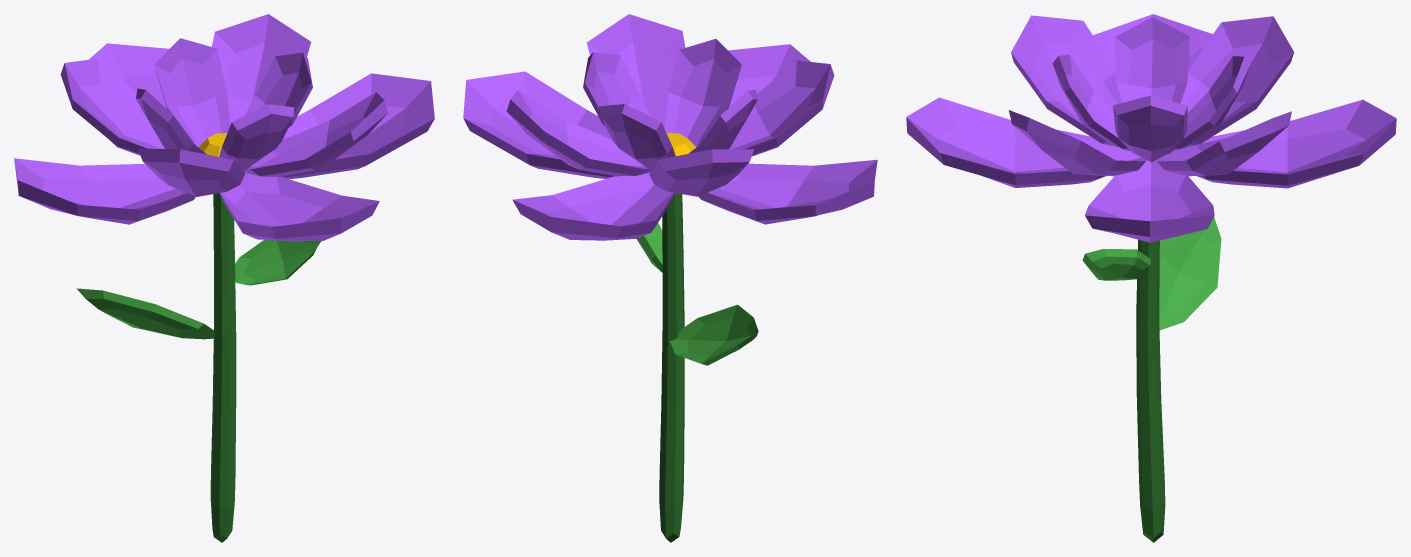
Rendered from Purple_Flower.fbx.
3 renders of one model, left to right at view 1: azimuth 30°, elevation 25°; view 2: azimuth 150°, elevation 25°; view 3: azimuth 270°, elevation 25°, orthographic. The views are drawn at different scales.
Parts seen in each view (by area): view 1: pCube21.012, pCube23.002, pCube22.012, pCube21.013, pCube22.017, pCube21.014, pCube22.015, pCube21.015, pCube22.014, pCube24.002, pCube22.016, pCube25.002 (+3 smaller); view 2: pCube21.012, pCube23.002, pCube22.013, pCube21.013, pCube22.016, pCube22.014, pCube21.015, pCube22.015, pCube21.014, pCube24.002, pCube22.017, pCube21.017 (+3 smaller); view 3: pCube22.013, pCube22.012, pCube21.013, pCube23.002, pCube21.014, pCube22.014, pCube21.016, pCube24.002, pCube21.017, pCube21.015, pCube22.015, pCube22.017 (+3 smaller).
Boxes of the visible parts, box(x1,y1,x2,y2) form: pCube21.012: box(14, 158, 195, 224); pCube23.002: box(210, 193, 236, 542); pCube22.012: box(219, 172, 379, 241); pCube21.013: box(281, 73, 434, 179); pCube22.017: box(154, 38, 230, 147); pCube21.014: box(60, 58, 164, 155); pCube22.015: box(211, 14, 310, 125); pCube21.015: box(243, 92, 388, 176); pCube22.014: box(138, 148, 245, 196); pCube24.002: box(76, 288, 214, 339); pCube22.016: box(219, 104, 294, 171); pCube25.002: box(234, 240, 321, 285); pCube21.012: box(698, 159, 877, 224); pCube23.002: box(659, 193, 684, 542); pCube22.013: box(512, 172, 674, 240); pCube21.013: box(463, 71, 614, 178); pCube22.016: box(664, 39, 741, 146); pCube22.014: box(729, 60, 834, 156); pCube21.015: box(586, 14, 685, 128); pCube22.015: box(506, 90, 650, 176); pCube21.014: box(649, 149, 753, 196); pCube24.002: box(670, 304, 758, 365); pCube22.017: box(599, 104, 675, 170); pCube21.017: box(583, 52, 651, 126); pCube22.013: box(1197, 99, 1396, 188); pCube22.012: box(906, 97, 1105, 187); pCube21.013: box(1085, 160, 1214, 242); pCube23.002: box(1136, 239, 1165, 542); pCube21.014: box(1180, 16, 1294, 145); pCube22.014: box(1011, 15, 1122, 145); pCube21.016: box(1115, 17, 1189, 103); pCube24.002: box(1159, 217, 1221, 330); pCube21.017: box(1113, 95, 1187, 162); pCube21.015: box(1008, 110, 1146, 176); pCube22.015: box(1156, 111, 1291, 176); pCube22.017: box(1172, 56, 1250, 151).
Bounding box in the file's own units: 330 × 362 × 330.
